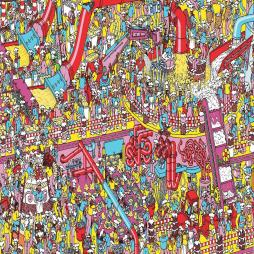odlaw: (57, 165, 60, 177)
wally: (124, 12, 128, 26)
wenda: (126, 230, 130, 246)
